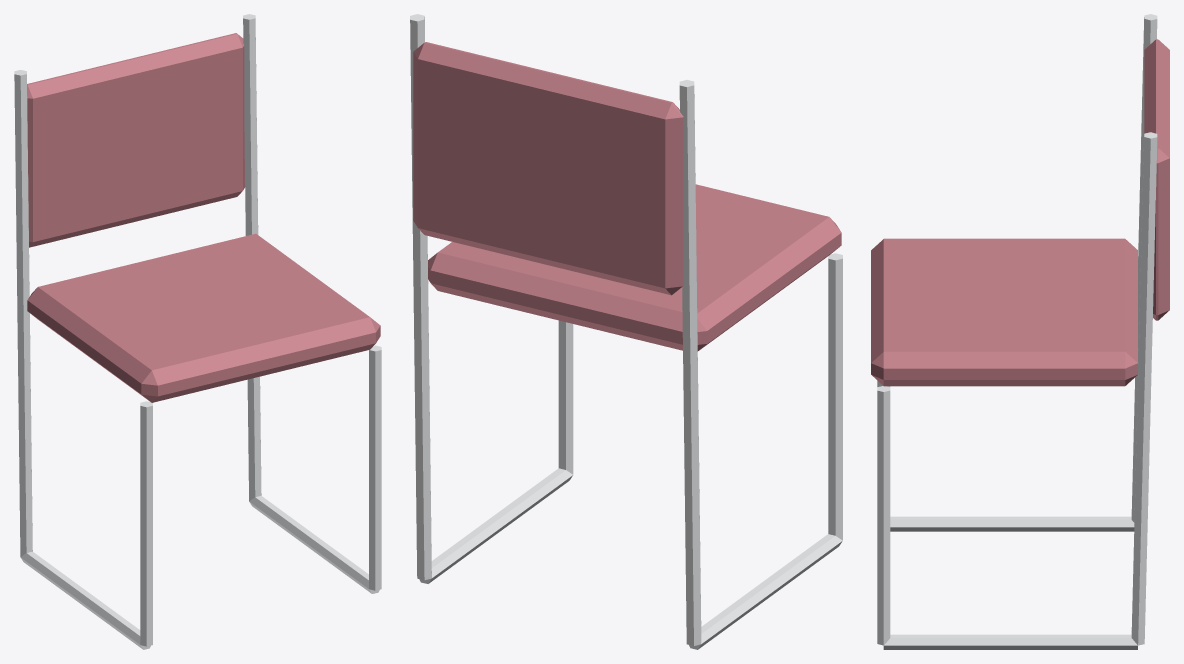
Rendered from guest_chair.glb.
3 views of the same model, side by side, from view 1: azimuth 30°, elevation 25°; view 2: azimuth 150°, elevation 25°; view 3: azimuth 270°, elevation 25° (orthographic). The views are drawn at different scales.
Visible parts, largest first — view 1: guest_chair_fabric, guest_chair_chrome; view 2: guest_chair_fabric, guest_chair_chrome; view 3: guest_chair_fabric, guest_chair_chrome.
Part boxes in pixels (x1,y1,x2,y2): guest_chair_fabric: [27, 33, 380, 402]; guest_chair_chrome: [14, 14, 381, 649]; guest_chair_fabric: [413, 42, 841, 351]; guest_chair_chrome: [410, 14, 842, 649]; guest_chair_fabric: [871, 39, 1169, 386]; guest_chair_chrome: [877, 14, 1157, 649].
Size of the model in its own units: 0.464 by 0.8906 by 0.47.
